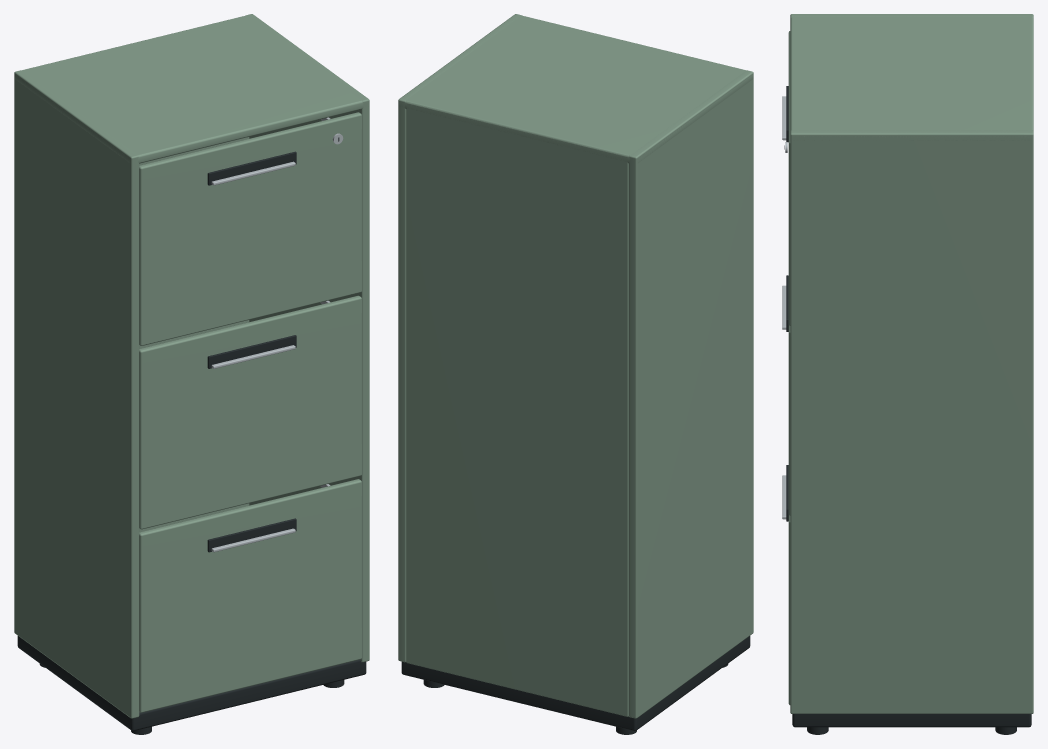
File: office-filing-cabinet.glb
The picture shows the model from 3 angles, left to right: view 1: azimuth 30°, elevation 25°; view 2: azimuth 150°, elevation 25°; view 3: azimuth 270°, elevation 25°; orthographic projection. The views are drawn at different scales.
Visible parts, largest first — view 1: office-filing-cabinet authored assembly; view 2: office-filing-cabinet authored assembly; view 3: office-filing-cabinet authored assembly.
Boxes of the visible parts, x1=… form: office-filing-cabinet authored assembly: x1=14, y1=14, x2=369, y2=734; office-filing-cabinet authored assembly: x1=398, y1=14, x2=753, y2=734; office-filing-cabinet authored assembly: x1=782, y1=14, x2=1033, y2=734.
Size of the model in its own units: 0.51 by 1.2 by 0.45.
